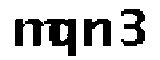3: (119, 6, 147, 49)
m: (9, 17, 56, 50)
n: (81, 16, 113, 49)
q: (50, 17, 79, 59)
